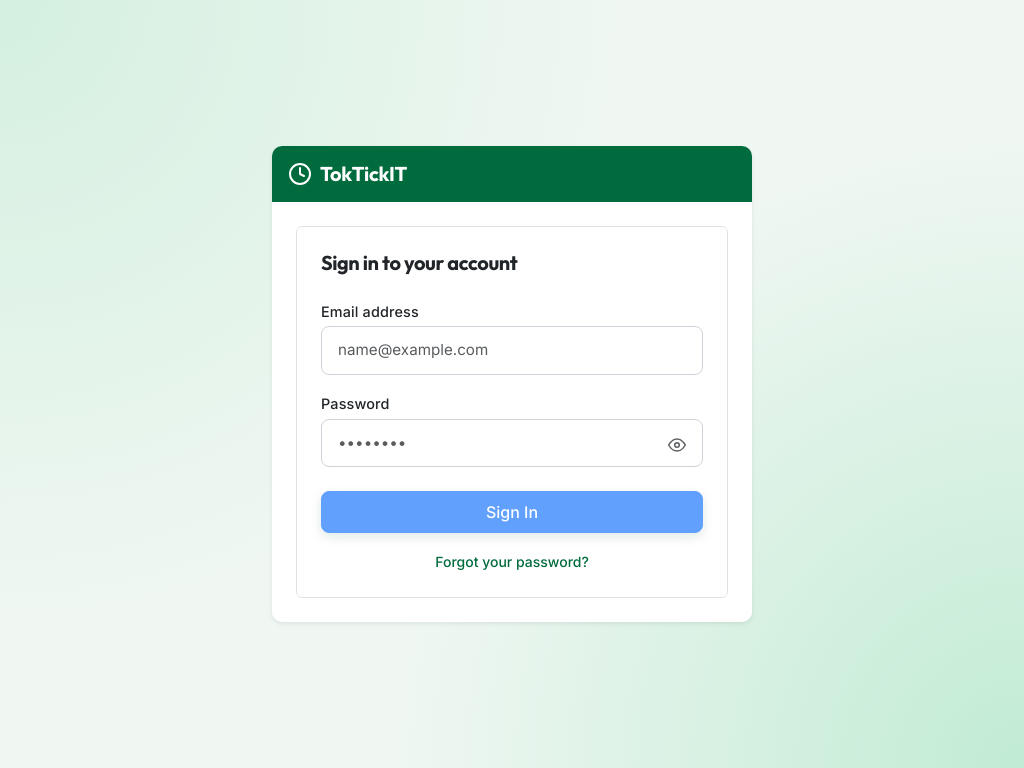
Test: Login Component › shows generic error on login failure (invalid credentials or inactive)
Type "test@example.com" into the field labelled "Email address" at [512, 351], box [321,326,703,375]
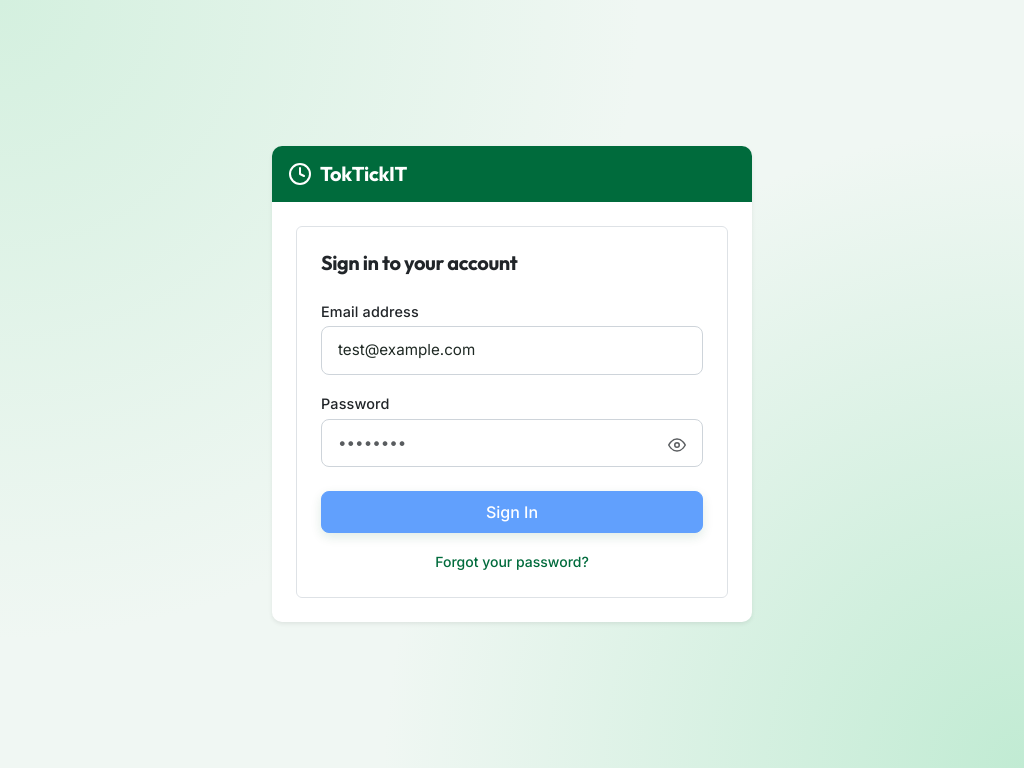
Type "wrong" into the password field labelled "Password" at [512, 443], box [321,419,703,467]
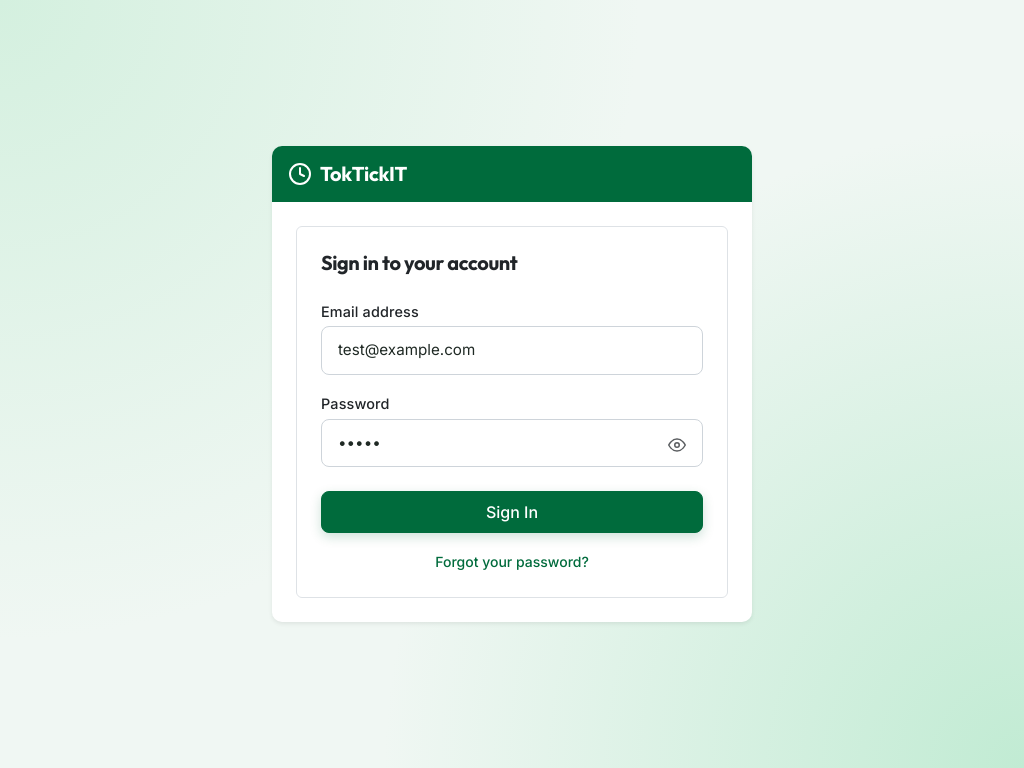
Click the button "Sign In" at [512, 512], box [321,491,703,533]
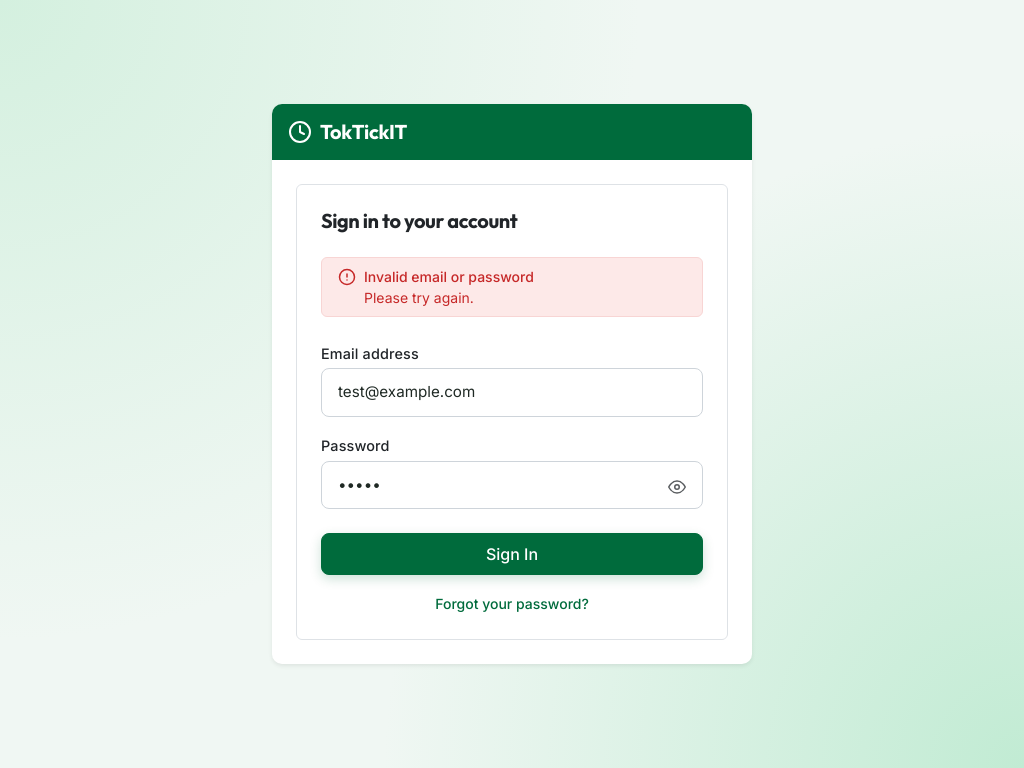
Expected: the text "Invalid email or password" is shown, [364,266,534,287]
